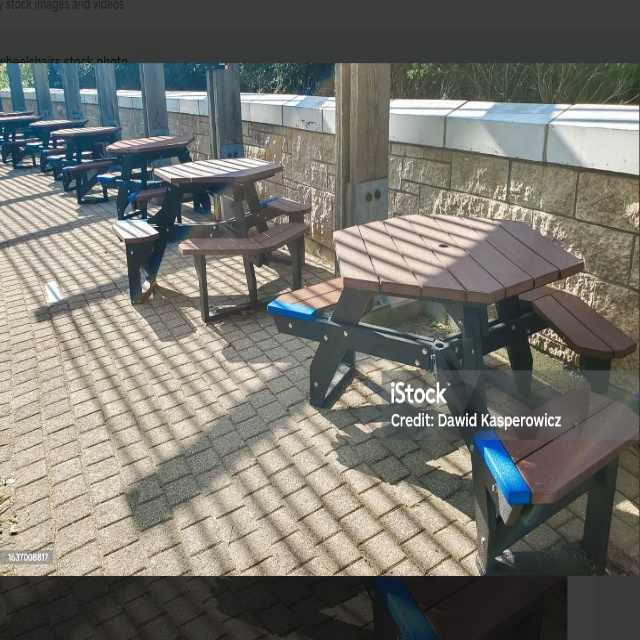obstacle: (265, 205, 631, 547), (116, 158, 297, 310), (102, 134, 183, 182)
